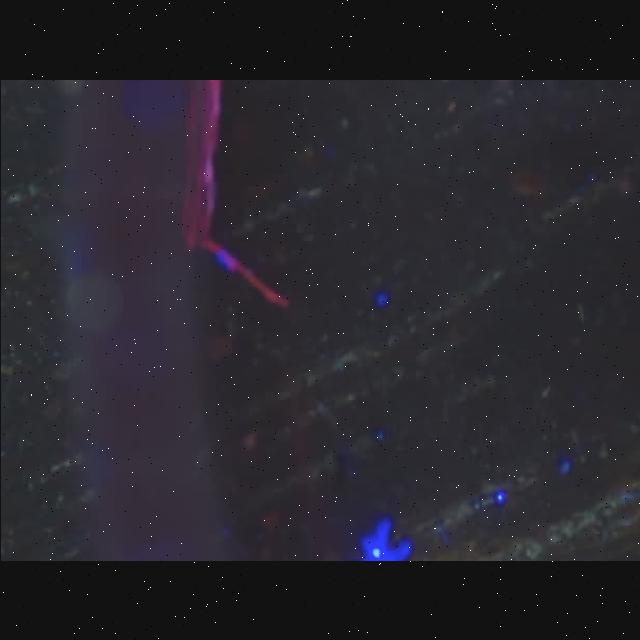Fibre: (200, 238, 288, 312)
